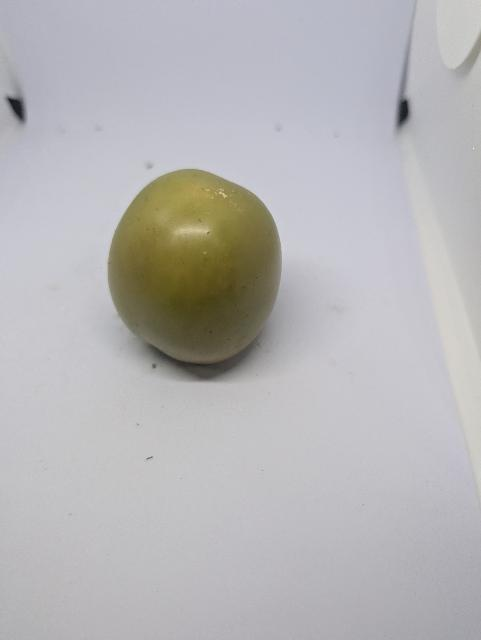green: (107, 168, 287, 369)
